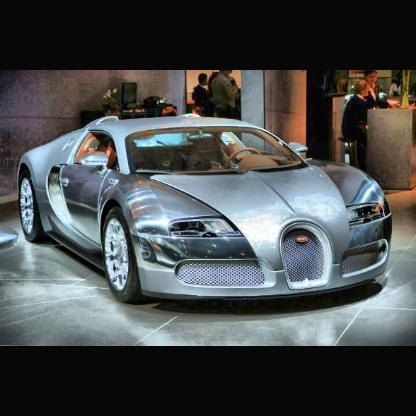Bugatti Veyron 16-4 Coupe 2009: (19, 114, 393, 303)
